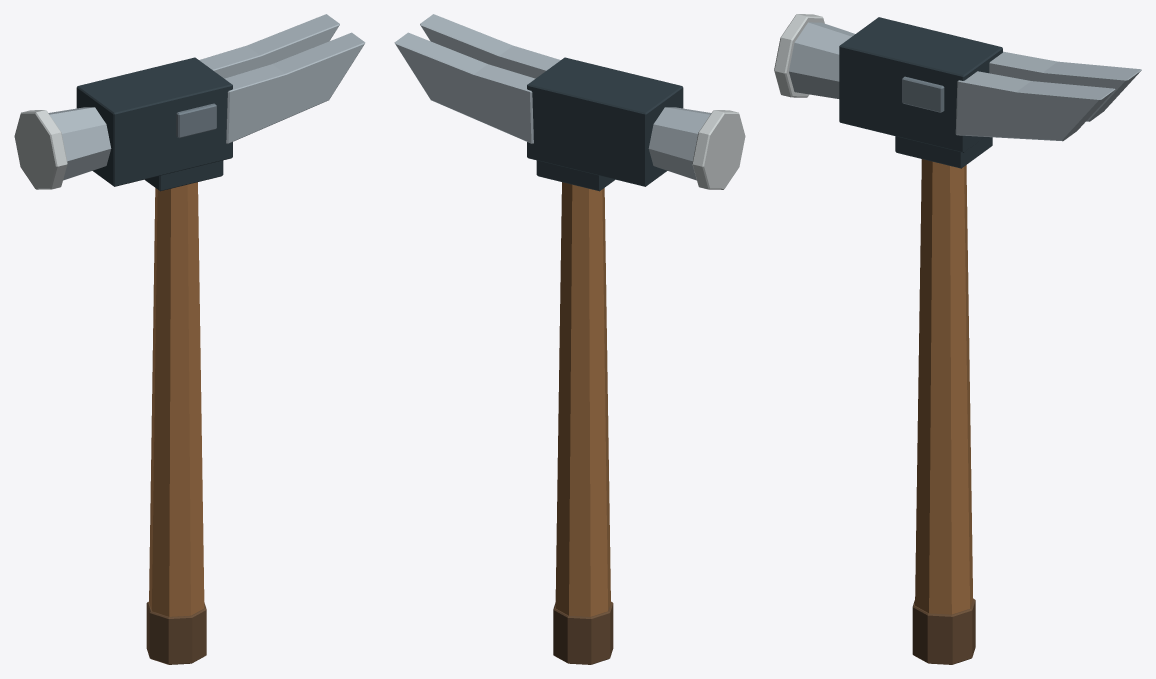
The model's file is b06_claw_hammer.glb.
3 renders of one model, left to right at view 1: azimuth 30°, elevation 25°; view 2: azimuth 150°, elevation 25°; view 3: azimuth 330°, elevation 25°, orthographic. The views are drawn at different scales.
Visible parts, largest first — view 1: b06_claw_hammer; view 2: b06_claw_hammer; view 3: b06_claw_hammer.
Part boxes in pixels (box(x1,y1,x2,y2)): b06_claw_hammer: box(14, 14, 365, 664); b06_claw_hammer: box(394, 14, 745, 664); b06_claw_hammer: box(774, 14, 1141, 664).
Size of the model in its own units: 0.1846 by 0.3309 by 0.044.
